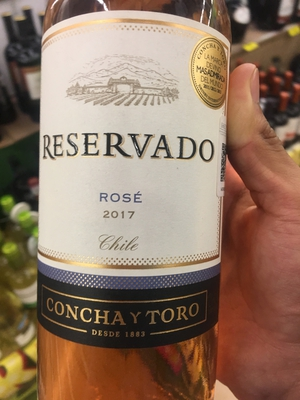reservado rose: (33, 1, 227, 394)
